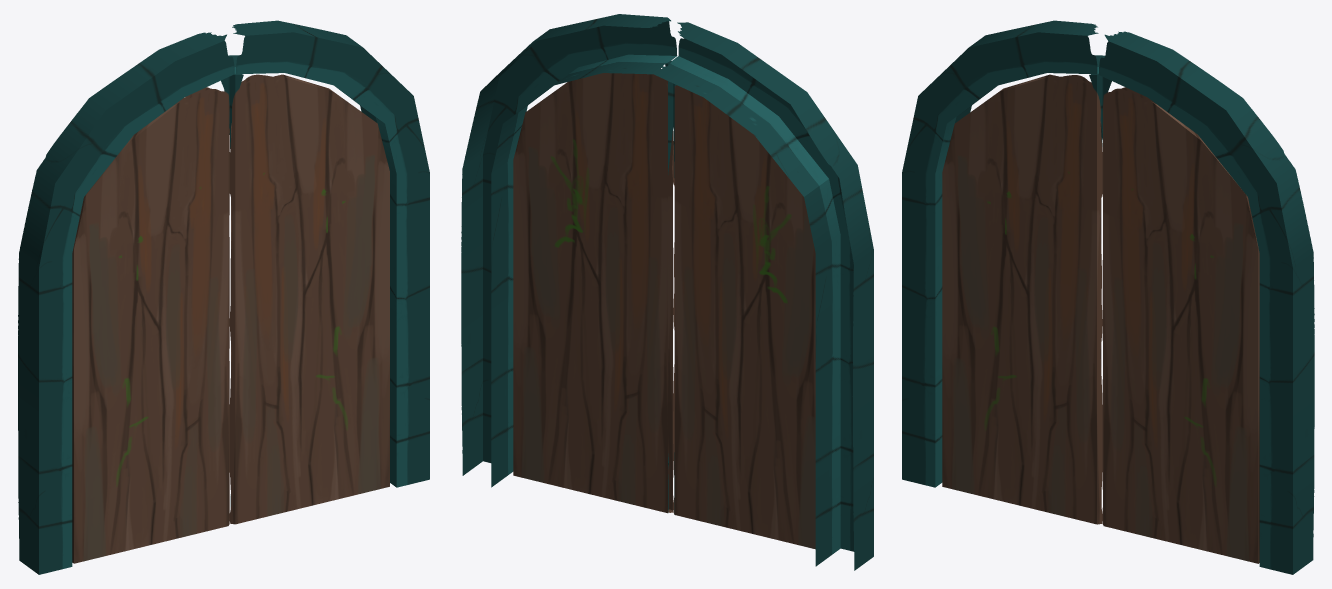
Rendered from BossDoorMESH_1.fbx.
The picture shows the model from 3 angles, left to right: view 1: azimuth 30°, elevation 25°; view 2: azimuth 150°, elevation 25°; view 3: azimuth 330°, elevation 25°; orthographic projection.
Visible parts, largest first — view 1: Door2, Door4, Arch; view 2: Door2, Arch, Door4; view 3: Door4, Door2, Arch.
Boxes of the visible parts, x1=… form: Door2: x1=230, y1=74, x2=389, y2=524; Door4: x1=72, y1=76, x2=229, y2=563; Arch: x1=18, y1=20, x2=429, y2=574; Door2: x1=513, y1=60, x2=673, y2=513; Arch: x1=461, y1=14, x2=873, y2=570; Door4: x1=673, y1=83, x2=815, y2=549; Door4: x1=942, y1=73, x2=1102, y2=524; Door2: x1=1102, y1=77, x2=1259, y2=563; Arch: x1=902, y1=20, x2=1314, y2=574.
Size of the model in its own units: 35.29 by 42.33 by 3.91.
